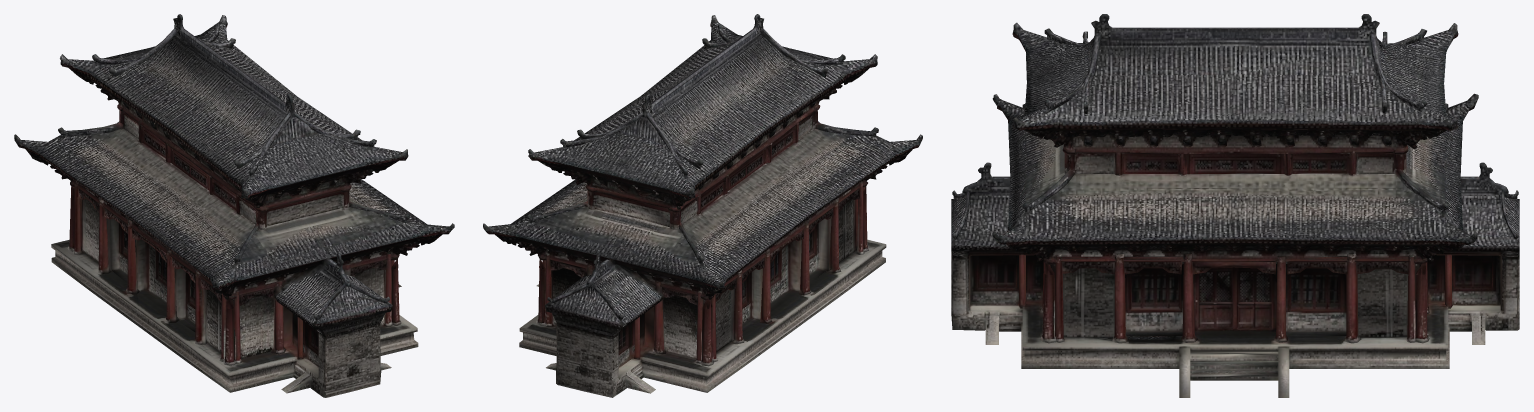
The model's file is tripo_convert_06165d43-4dfa-4a45-a9e1-790845a0cc84.fbx.
The picture shows the model from 3 angles, left to right: view 1: azimuth 30°, elevation 25°; view 2: azimuth 150°, elevation 25°; view 3: azimuth 270°, elevation 25°; orthographic projection. The views are drawn at different scales.
Visible parts, largest first — view 1: tripo_node_06165d43; view 2: tripo_node_06165d43; view 3: tripo_node_06165d43.
Part boxes in pixels (x1=…): tripo_node_06165d43: x1=14, y1=14, x2=454, y2=397; tripo_node_06165d43: x1=483, y1=14, x2=922, y2=397; tripo_node_06165d43: x1=951, y1=14, x2=1519, y2=397.
Size of the model in its own units: 0.6426 by 0.5801 by 0.998.
Materials: 1 (1 with a texture image).
